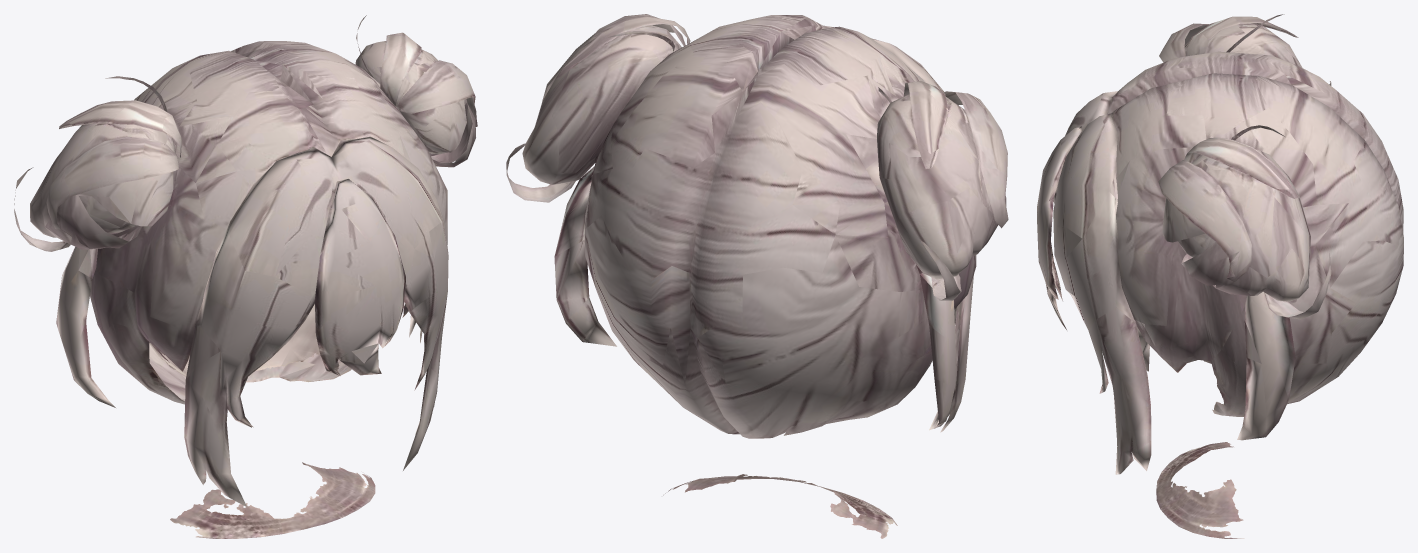
The model's file is buns.glb.
The picture shows the model from 3 angles, left to right: view 1: azimuth 30°, elevation 25°; view 2: azimuth 150°, elevation 25°; view 3: azimuth 270°, elevation 25°; orthographic projection. The views are drawn at different scales.
Visible parts, largest first — view 1: Mesh_0; view 2: Mesh_0; view 3: Mesh_0.
Part boxes in pixels (x1,y1,x2,y2): Mesh_0: (14, 15, 477, 538); Mesh_0: (506, 14, 1008, 538); Mesh_0: (1037, 14, 1403, 538).
Bounding box in the file's own units: 2 × 2 × 1.57.
Materials: 1 (1 with a texture image).
